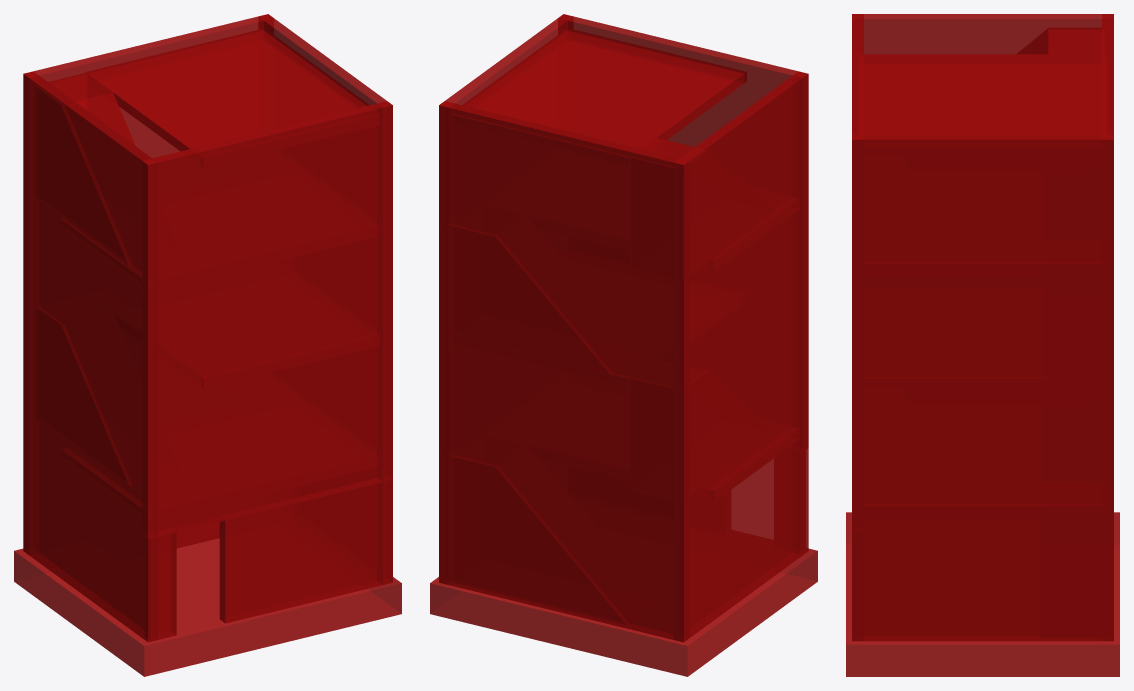
Rendered from SM_Bld_Village_House_04_Collision.fbx.
3 views of the same model, side by side, from view 1: azimuth 30°, elevation 25°; view 2: azimuth 150°, elevation 25°; view 3: azimuth 270°, elevation 25° (orthographic). The views are drawn at different scales.
Visible parts, largest first — view 1: SM_Bld_Village_House_04_Collision; view 2: SM_Bld_Village_House_04_Collision; view 3: SM_Bld_Village_House_04_Collision.
Part boxes in pixels (x1,y1,x2,y2): SM_Bld_Village_House_04_Collision: [14, 14, 401, 676]; SM_Bld_Village_House_04_Collision: [430, 14, 817, 676]; SM_Bld_Village_House_04_Collision: [846, 14, 1119, 676].
Size of the model in its own units: 643 by 1211 by 563.
